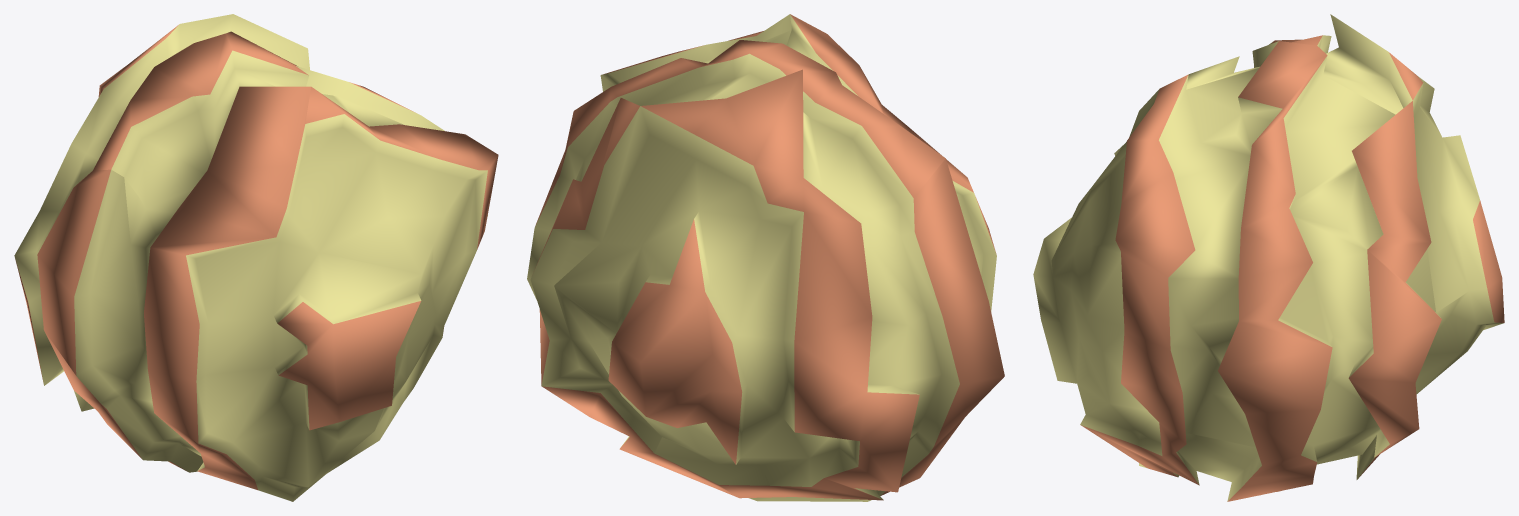
File: Planeta1.fbx
The picture shows the model from 3 angles, left to right: view 1: azimuth 30°, elevation 25°; view 2: azimuth 150°, elevation 25°; view 3: azimuth 270°, elevation 25°; orthographic projection. The views are drawn at different scales.
Parts seen in each view (by area): view 1: Icosphere.003; view 2: Icosphere.003; view 3: Icosphere.003.
Part boxes in pixels (bbox=[...]): Icosphere.003: bbox=[14, 14, 498, 501]; Icosphere.003: bbox=[527, 14, 1004, 501]; Icosphere.003: bbox=[1033, 14, 1504, 501].
Bounding box in the file's own units: 243 × 240 × 231.
